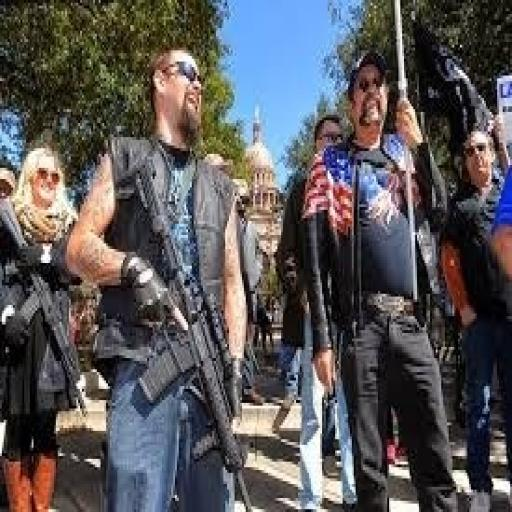running: (63, 42, 261, 509), (300, 48, 469, 509), (0, 140, 82, 509)
